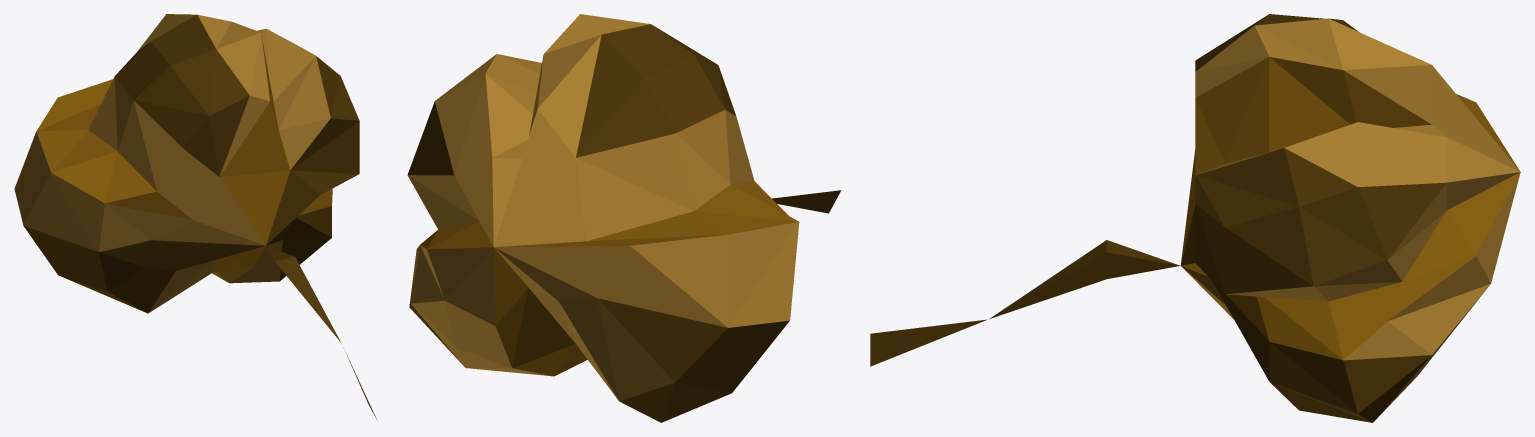
Rendered from royal-seed-pod.gltf.
3 renders of one model, left to right at view 1: azimuth 30°, elevation 25°; view 2: azimuth 150°, elevation 25°; view 3: azimuth 270°, elevation 25°, orthographic. The views are drawn at different scales.
Bounding box in the file's own units: 31 × 26 × 44.
Materials: 1 (1 with a texture image).
